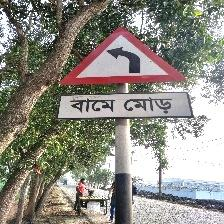Left-Turn: (57, 25, 191, 123)
